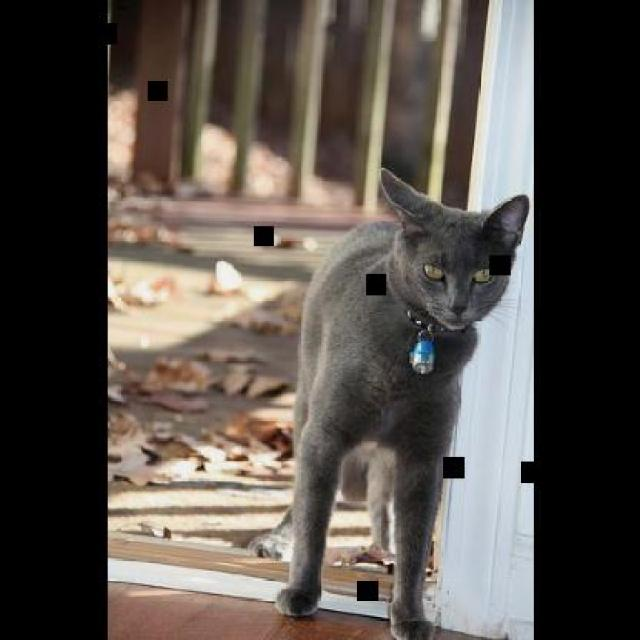unauthorized: (254, 164, 529, 638)
